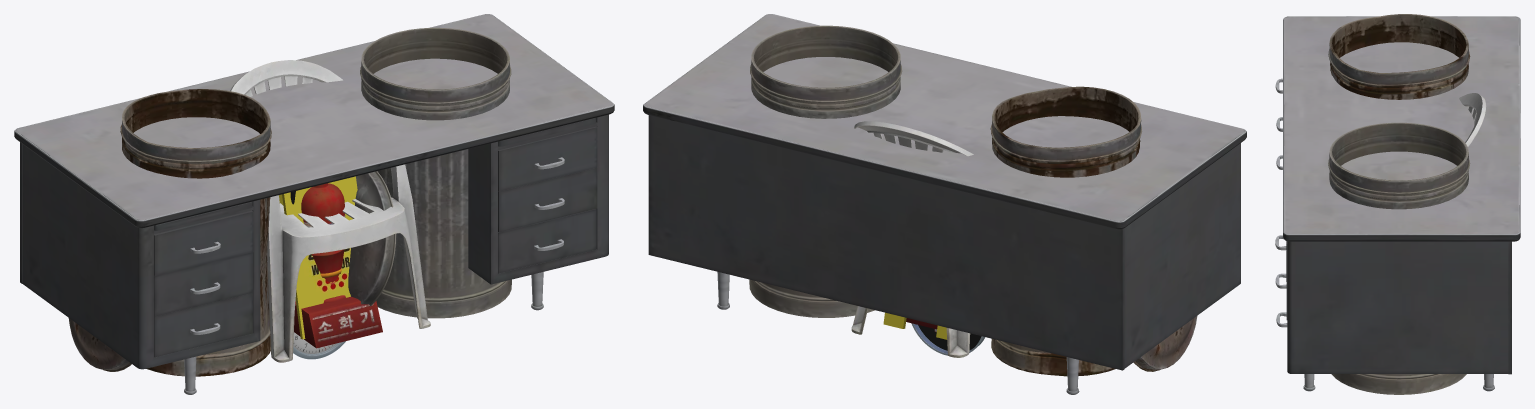
The model's file is props.glb.
The picture shows the model from 3 angles, left to right: view 1: azimuth 30°, elevation 25°; view 2: azimuth 150°, elevation 25°; view 3: azimuth 270°, elevation 25°; orthographic projection. The views are drawn at different scales.
Visible parts, largest first — view 1: metal_office_desk (×2), metal_trash_can, plastic_monobloc_chair_01, metal_trash_can_rust, korean_fire_extinguisher_01, metal_trash_can_lid, WetFloorSign_01, metal_trash_can_rust_lid, wall_clock; view 2: metal_office_desk, metal_trash_can, metal_trash_can_rust, plastic_monobloc_chair_01, metal_trash_can_rust_lid, wall_clock; view 3: metal_office_desk (×2), metal_trash_can, metal_trash_can_rust, plastic_monobloc_chair_01.
Part boxes in pixels (x1,y1,x2,y2): metal_office_desk (×2): (14, 14, 614, 394); metal_trash_can: (360, 27, 511, 318); plastic_monobloc_chair_01: (230, 60, 430, 362); metal_trash_can_rust: (120, 89, 271, 376); korean_fire_extinguisher_01: (290, 183, 382, 348); metal_trash_can_lid: (348, 171, 396, 306); WetFloorSign_01: (279, 176, 357, 339); metal_trash_can_rust_lid: (68, 318, 131, 371); wall_clock: (293, 332, 345, 359); metal_office_desk: (643, 14, 1246, 394); metal_trash_can: (749, 25, 902, 317); metal_trash_can_rust: (990, 86, 1141, 376); plastic_monobloc_chair_01: (851, 121, 973, 357); metal_trash_can_rust_lid: (1133, 316, 1197, 371); wall_clock: (911, 323, 985, 355); metal_office_desk (×2): (1275, 16, 1520, 391); metal_trash_can: (1328, 122, 1470, 394); metal_trash_can_rust: (1328, 14, 1470, 99); plastic_monobloc_chair_01: (1459, 93, 1486, 146).
Size of the model in its own units: 2 by 1.07 by 0.9472.
Materials: 11 (10 with a texture image).
